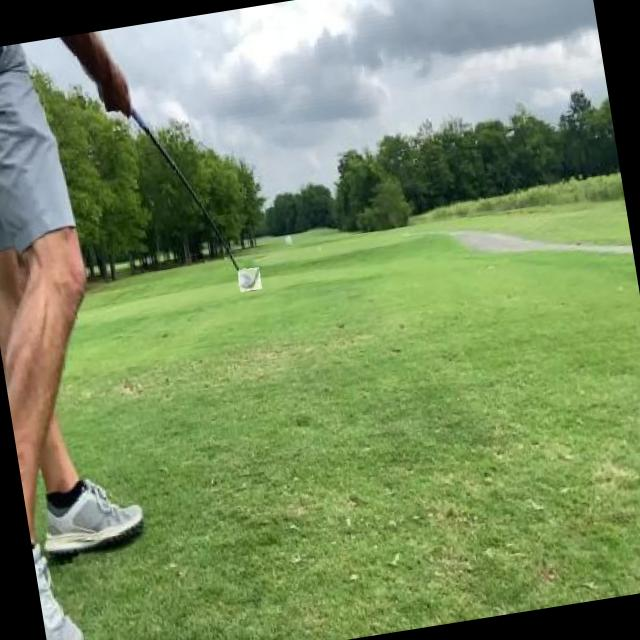club head: (238, 267, 262, 292)
